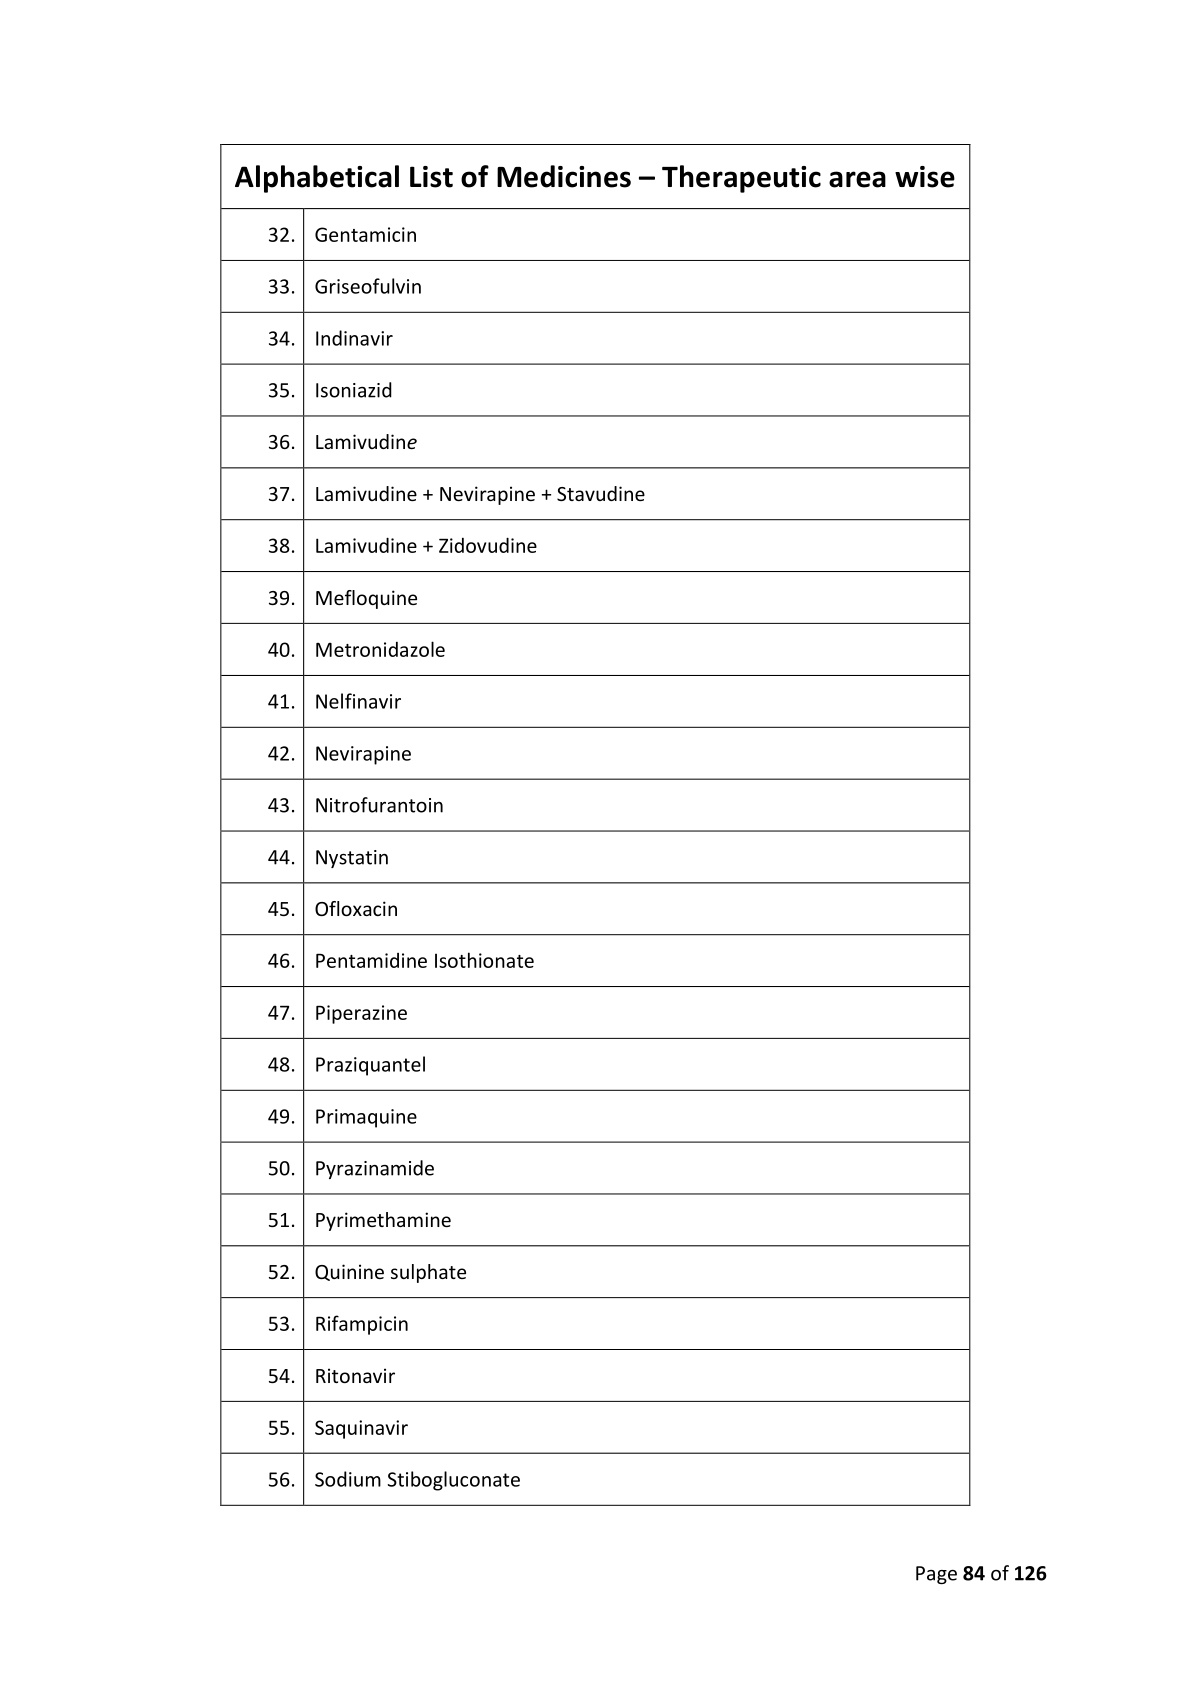merged_cells: (218, 142, 973, 1507)
